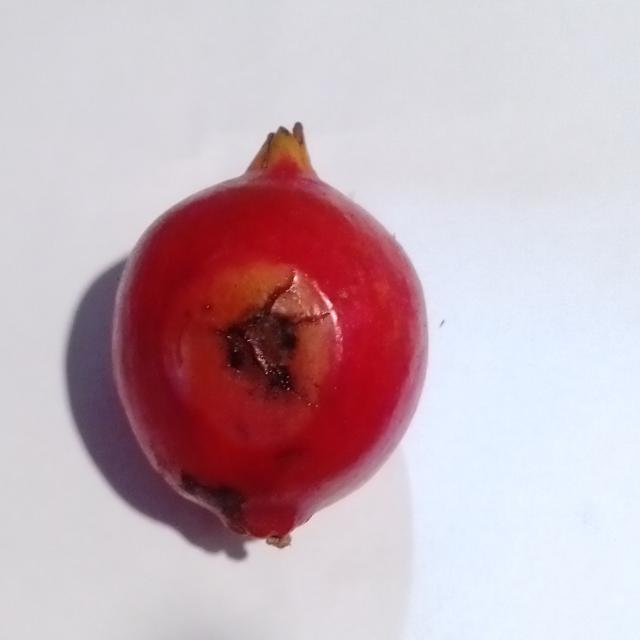Rotten: (113, 127, 436, 557)
